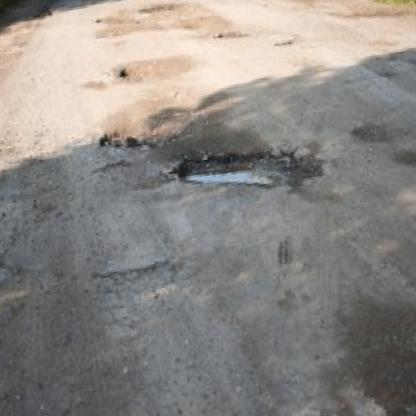pothole: (169, 134, 314, 201), (98, 115, 202, 156), (120, 58, 180, 84)
